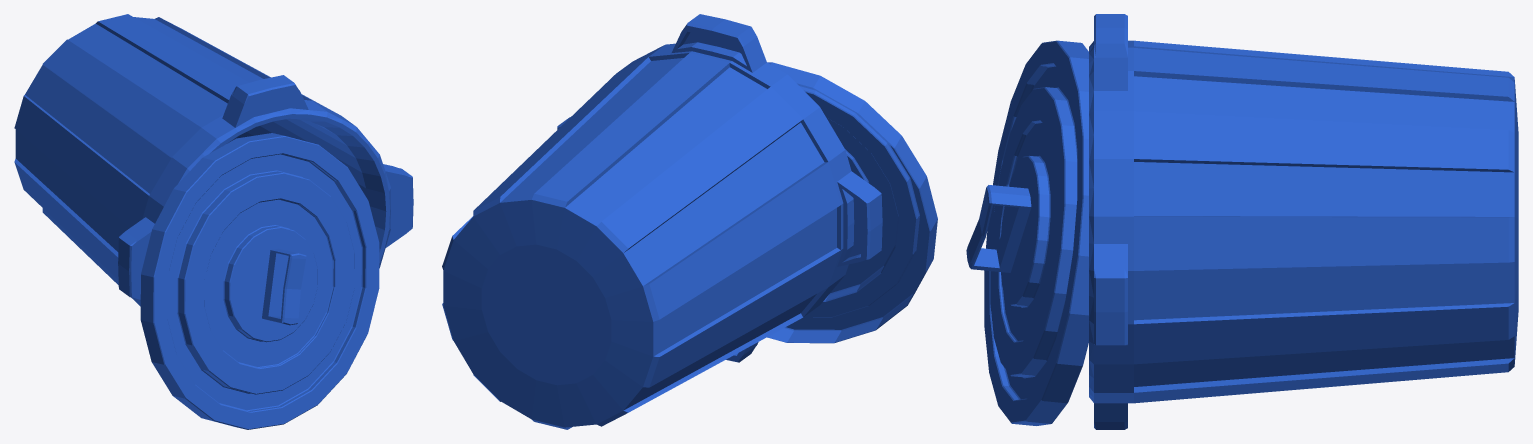
3 renders of one model, left to right at view 1: azimuth 30°, elevation 25°; view 2: azimuth 150°, elevation 25°; view 3: azimuth 270°, elevation 25°, orthographic. The views are drawn at different scales.
Parts seen in each view (by area): view 1: blue trash can; view 2: blue trash can; view 3: blue trash can.
Part boxes in pixels (bbox=[...]): blue trash can: bbox=[14, 14, 413, 429]; blue trash can: bbox=[442, 14, 937, 429]; blue trash can: bbox=[966, 14, 1518, 429].
Size of the model in its own units: 29.28 by 28.55 by 35.76.
